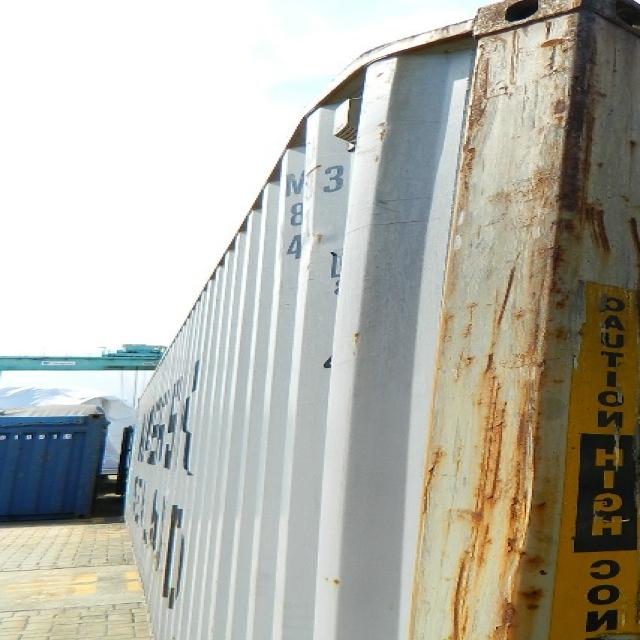dent: (254, 1, 640, 221)
